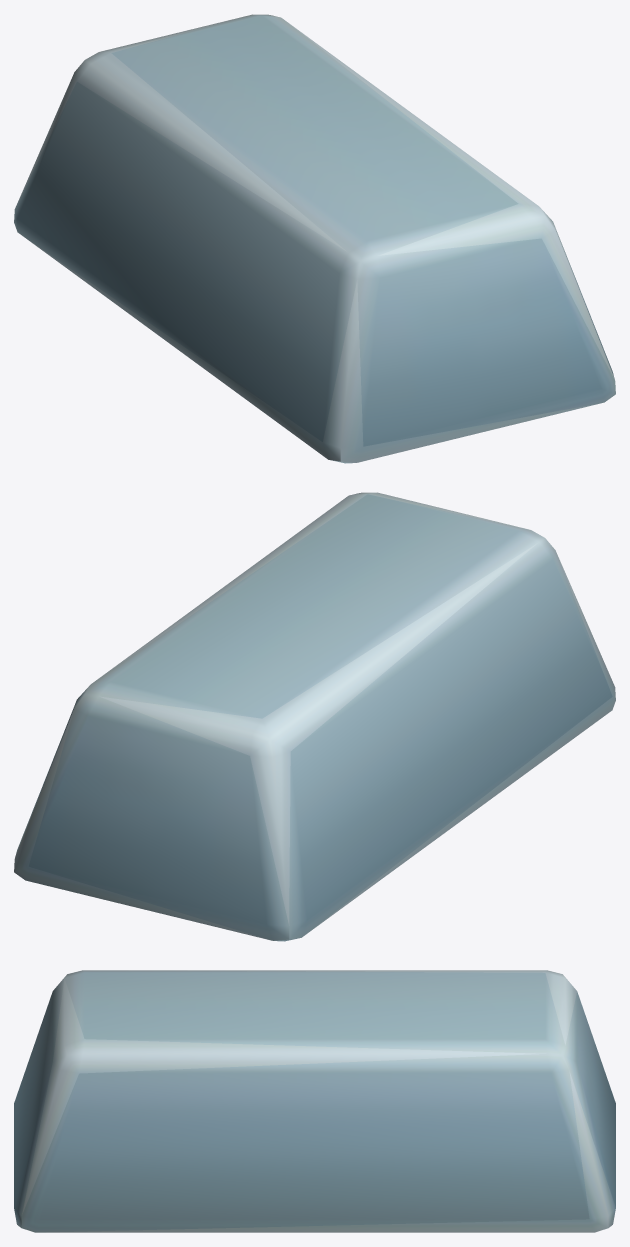
File: silver-bar.glb
The picture shows the model from 3 angles, top to bottom: view 1: azimuth 30°, elevation 25°; view 2: azimuth 150°, elevation 25°; view 3: azimuth 270°, elevation 25°; orthographic projection. The views are drawn at different scales.
Visible parts, largest first — view 1: Silver_Bar; view 2: Silver_Bar; view 3: Silver_Bar.
Part boxes in pixels (left/top/right/bottom): Silver_Bar: left=14, top=14, right=615, bottom=463; Silver_Bar: left=14, top=492, right=615, bottom=941; Silver_Bar: left=14, top=970, right=615, bottom=1232.
Bounding box in the file's own units: 0.4 × 0.25 × 0.8.
1 material, 1 textured.
